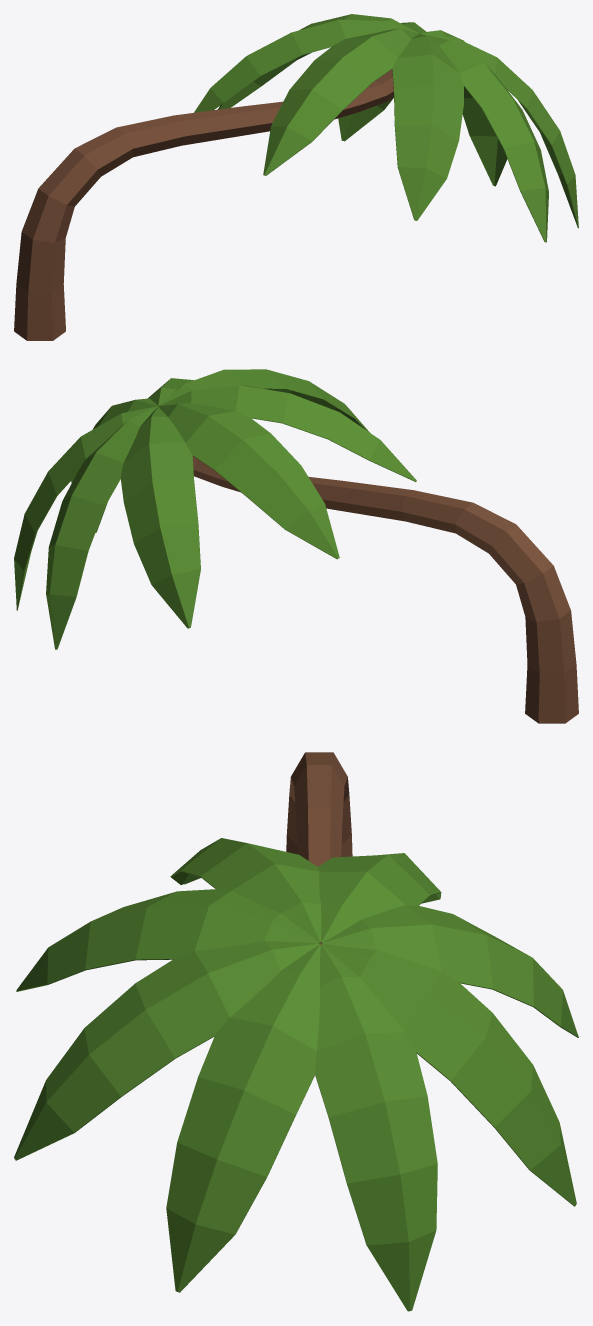
Rendered from SPW_Natures_Tree_Palm_01.glb.
3 views of the same model, one above another, from view 1: azimuth 30°, elevation 25°; view 2: azimuth 150°, elevation 25°; view 3: azimuth 270°, elevation 25° (orthographic). The views are drawn at different scales.
Parts seen in each view (by area): view 1: SPW_Natures_Tree_Palm_01; view 2: SPW_Natures_Tree_Palm_01; view 3: SPW_Natures_Tree_Palm_01.
Part boxes in pixels (bbox=[...]): SPW_Natures_Tree_Palm_01: bbox=[14, 14, 578, 340]; SPW_Natures_Tree_Palm_01: bbox=[14, 369, 578, 723]; SPW_Natures_Tree_Palm_01: bbox=[14, 752, 578, 1311].
Size of the model in its own units: 5.97 by 2.55 by 3.91.
1 material, 1 textured.
